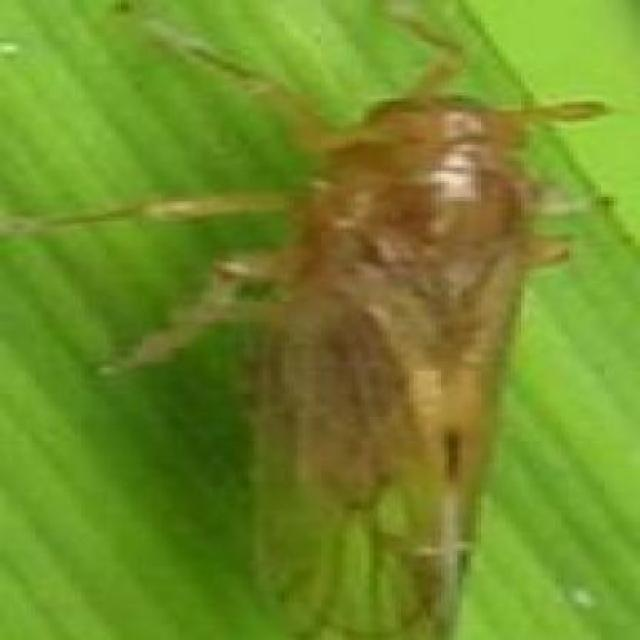brown-planthopper: (250, 74, 524, 634)
